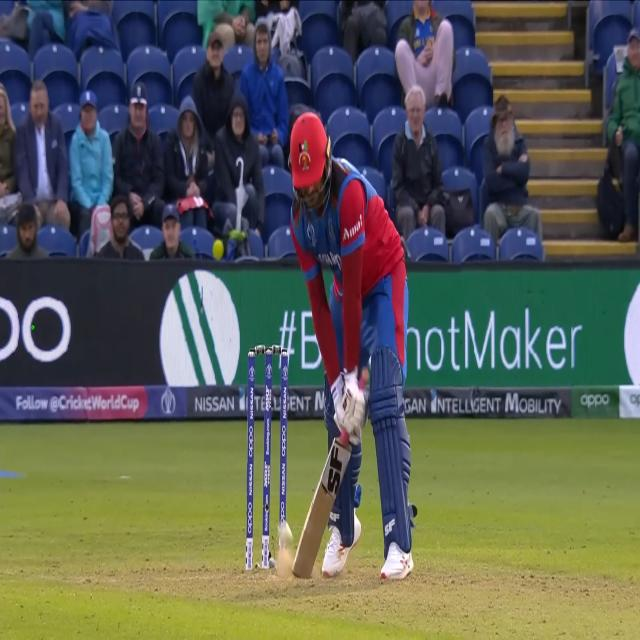ball: (276, 519, 296, 546)
